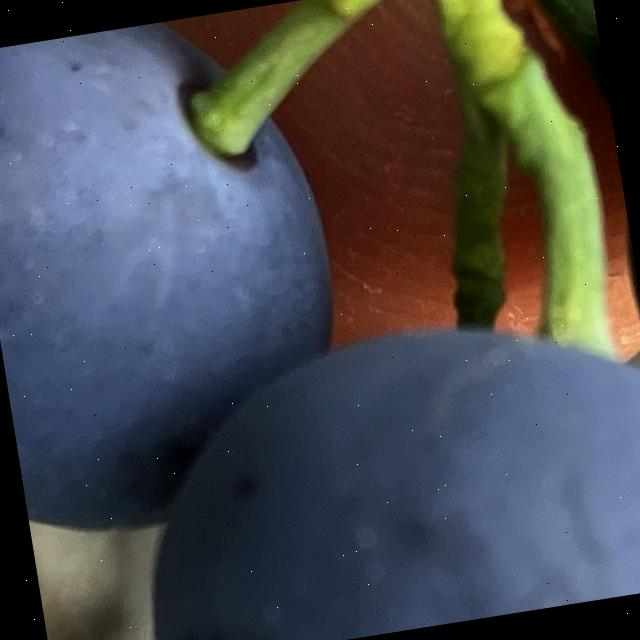Blueberries: (0, 0, 372, 543), (109, 287, 640, 640)
